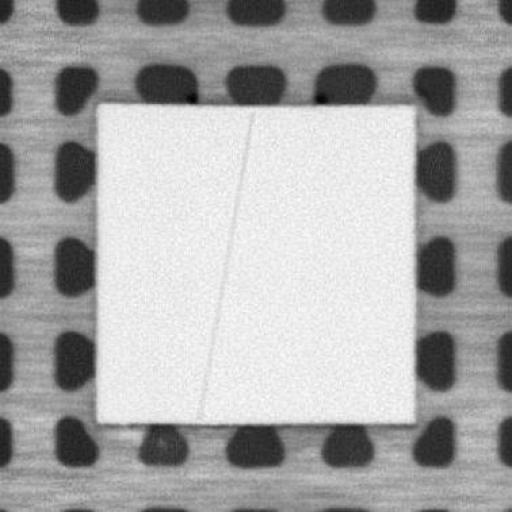DIE_CRACK: (192, 111, 256, 420)
